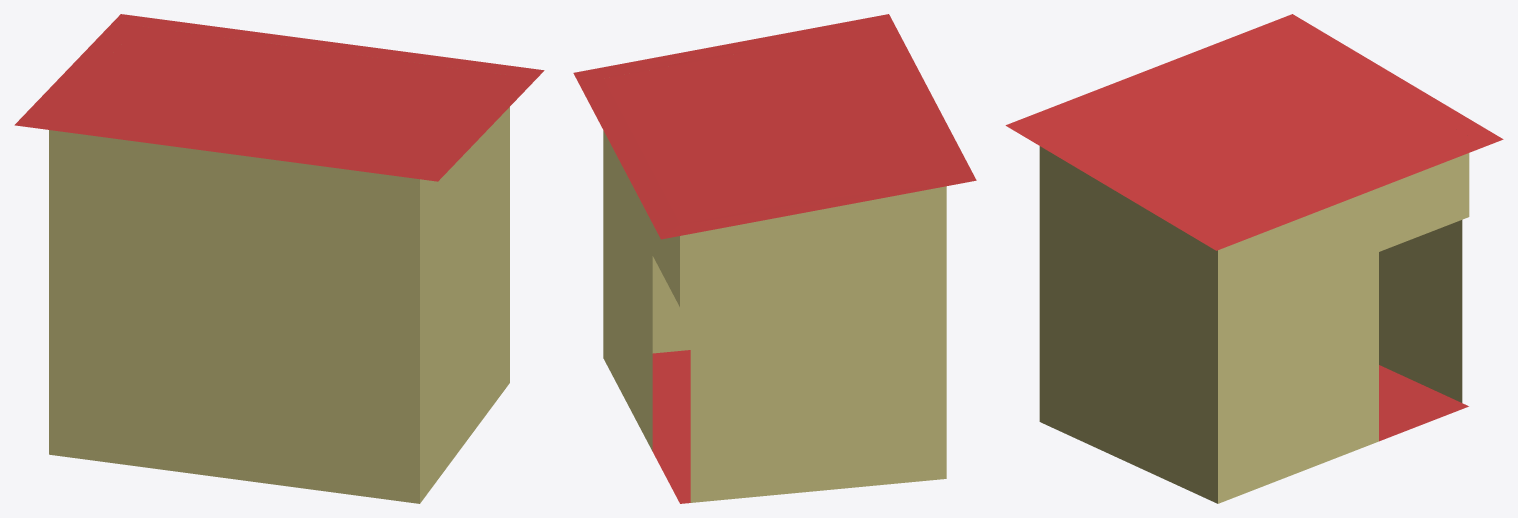
The picture shows the model from 3 angles, left to right: view 1: azimuth 30°, elevation 25°; view 2: azimuth 150°, elevation 25°; view 3: azimuth 270°, elevation 25°; orthographic projection. The views are drawn at different scales.
Bounding box in the file's own units: 15.21 × 15.35 × 10.05.
